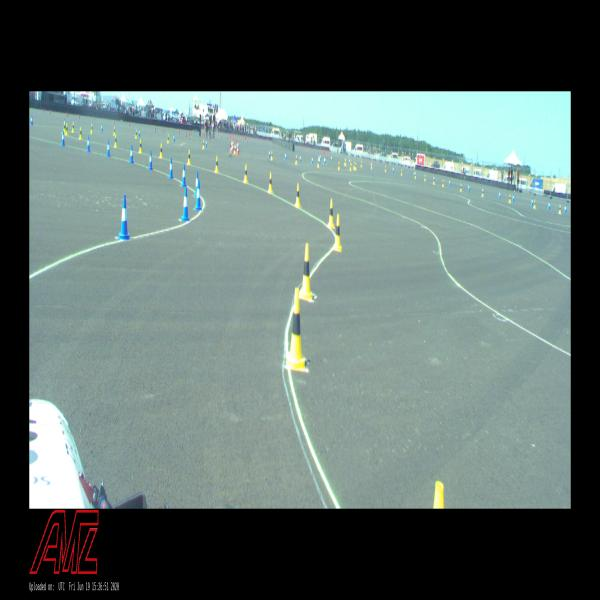blue_cone: (117, 195, 131, 239), (182, 186, 190, 220), (195, 179, 202, 210), (181, 164, 187, 186), (168, 158, 173, 179), (194, 171, 198, 197), (129, 145, 134, 163), (149, 150, 153, 169), (61, 130, 65, 146), (86, 136, 90, 152), (107, 140, 110, 157), (30, 116, 34, 126), (564, 204, 567, 213), (284, 152, 287, 160), (311, 156, 314, 164), (299, 154, 302, 162), (531, 198, 534, 206), (205, 139, 208, 147), (138, 128, 141, 136), (498, 191, 501, 198), (101, 123, 103, 132), (392, 166, 395, 172), (268, 149, 270, 158), (548, 201, 550, 209), (173, 134, 175, 142), (512, 194, 514, 202), (449, 179, 451, 186), (324, 157, 326, 164), (318, 155, 320, 162), (330, 155, 332, 161), (468, 184, 470, 190), (319, 157, 320, 164), (320, 153, 321, 160), (349, 158, 350, 165), (414, 171, 415, 177)
large_orange_cone: (236, 141, 239, 154), (230, 140, 232, 154), (232, 138, 234, 152)
yellow_cone: (284, 288, 308, 372), (298, 246, 314, 300), (333, 214, 342, 252), (328, 200, 335, 228), (295, 183, 301, 208), (268, 172, 273, 193), (244, 164, 248, 183), (215, 156, 219, 172), (187, 149, 191, 165), (160, 143, 164, 158), (114, 134, 118, 148), (65, 123, 69, 136), (138, 140, 142, 153), (79, 126, 82, 140), (558, 205, 562, 214), (90, 123, 93, 134), (63, 121, 66, 132), (508, 193, 511, 204), (202, 140, 205, 150), (135, 129, 138, 139), (113, 126, 116, 136), (508, 194, 511, 203), (533, 200, 536, 209), (295, 156, 298, 164), (349, 163, 352, 170), (360, 160, 363, 167), (354, 163, 357, 170), (72, 122, 74, 132), (167, 134, 169, 144), (234, 144, 236, 154), (338, 161, 340, 170), (400, 169, 403, 175), (317, 159, 319, 168), (442, 180, 444, 188), (460, 184, 462, 192), (271, 152, 273, 160), (424, 174, 426, 181), (353, 162, 355, 169), (414, 172, 416, 179), (433, 177, 435, 184), (482, 189, 484, 196), (370, 163, 372, 169), (345, 158, 346, 166), (385, 166, 386, 172)
